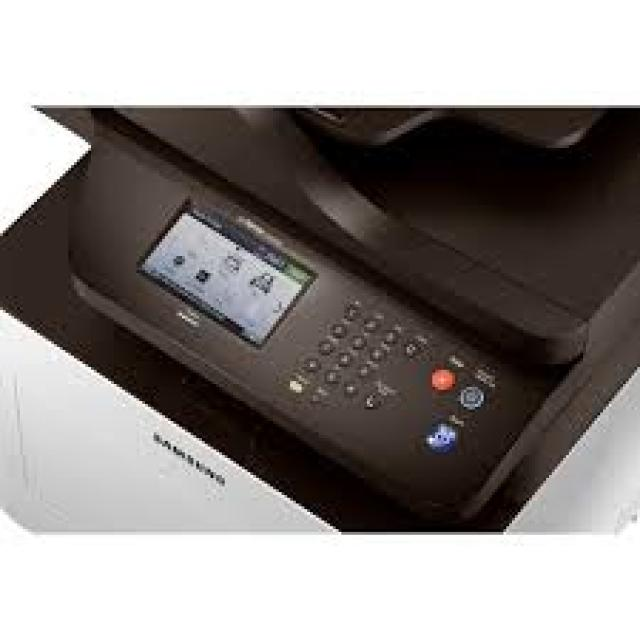printer: (2, 99, 636, 534)
